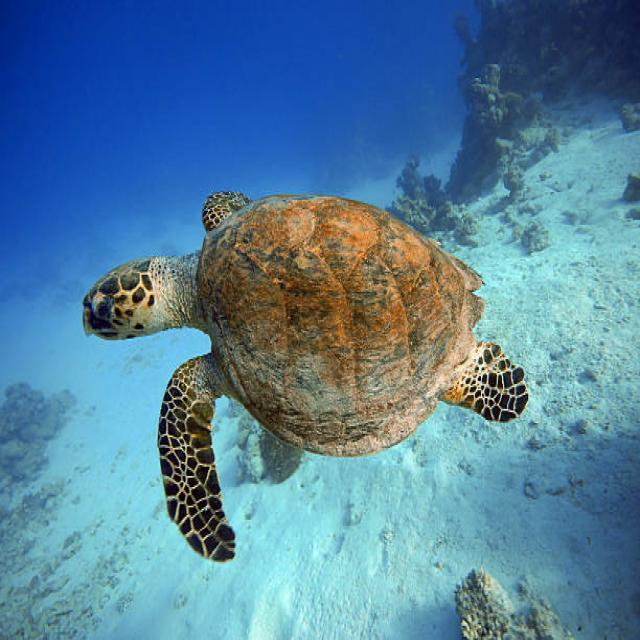sea turtle: (200, 187, 478, 463), (154, 357, 242, 566), (77, 255, 205, 354), (444, 328, 527, 434), (192, 168, 256, 234)
